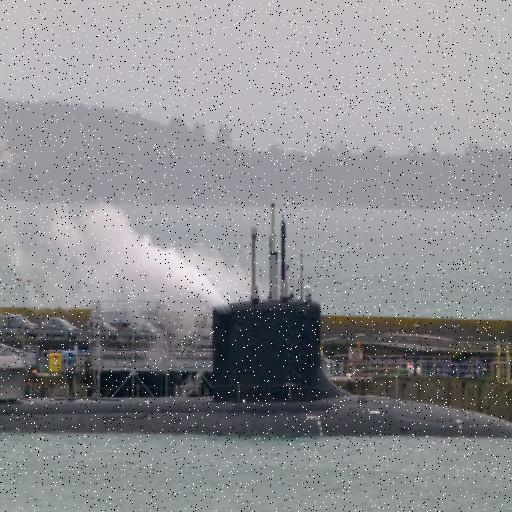submarine: (11, 302, 512, 442)
